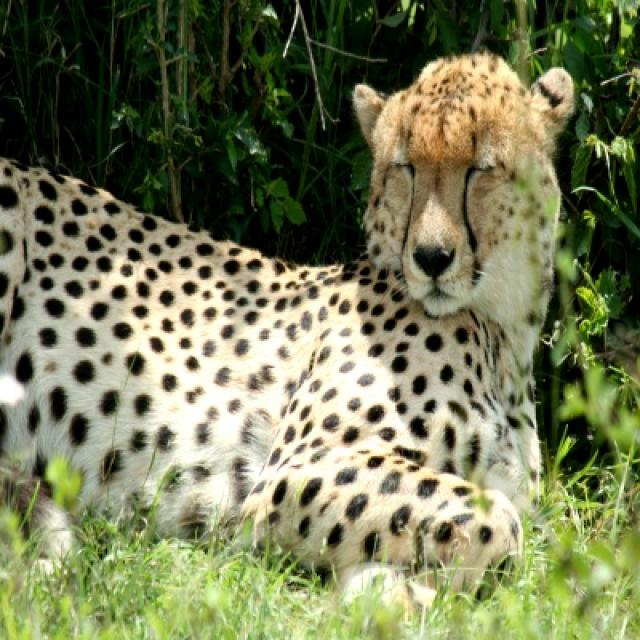Cheetah: (0, 53, 573, 605)
